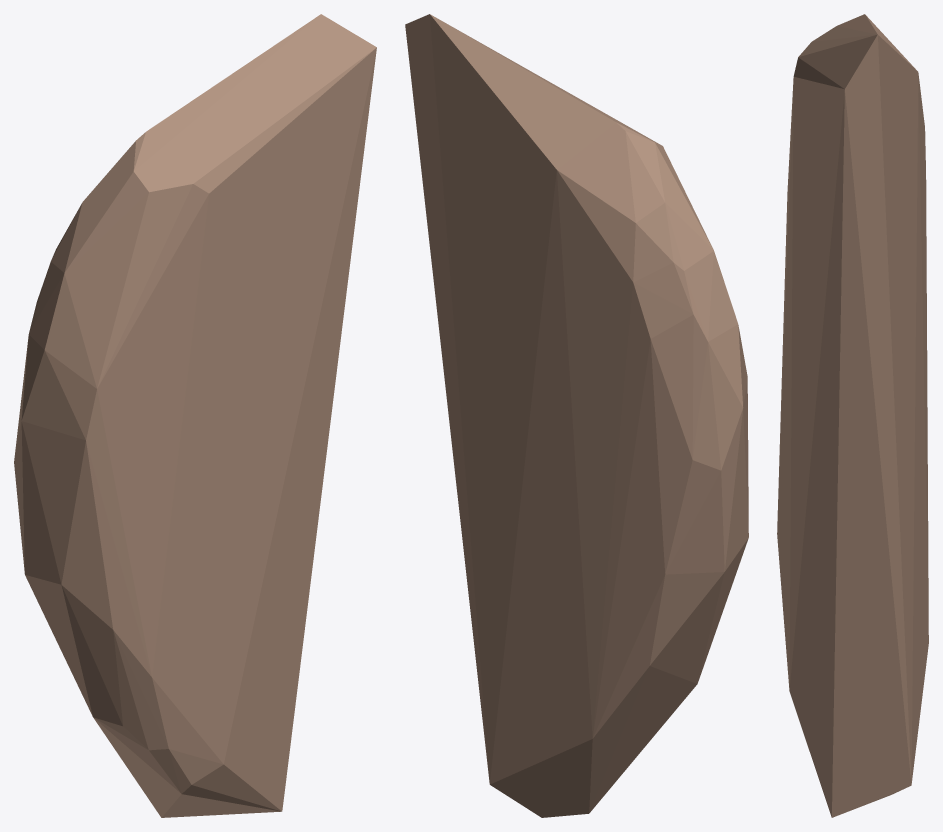
The model's file is food_produce_banana_p01.glb.
The picture shows the model from 3 angles, left to right: view 1: azimuth 30°, elevation 25°; view 2: azimuth 150°, elevation 25°; view 3: azimuth 270°, elevation 25°; orthographic projection. The views are drawn at different scales.
Parts seen in each view (by area): view 1: geometry_0; view 2: geometry_0; view 3: geometry_0.
Boxes of the visible parts, x1,y1,x2,y2 form: geometry_0: [14, 14, 376, 817]; geometry_0: [405, 14, 748, 817]; geometry_0: [777, 14, 928, 817].
Size of the model in its own units: 0.2207 by 0.4698 by 0.0786.
